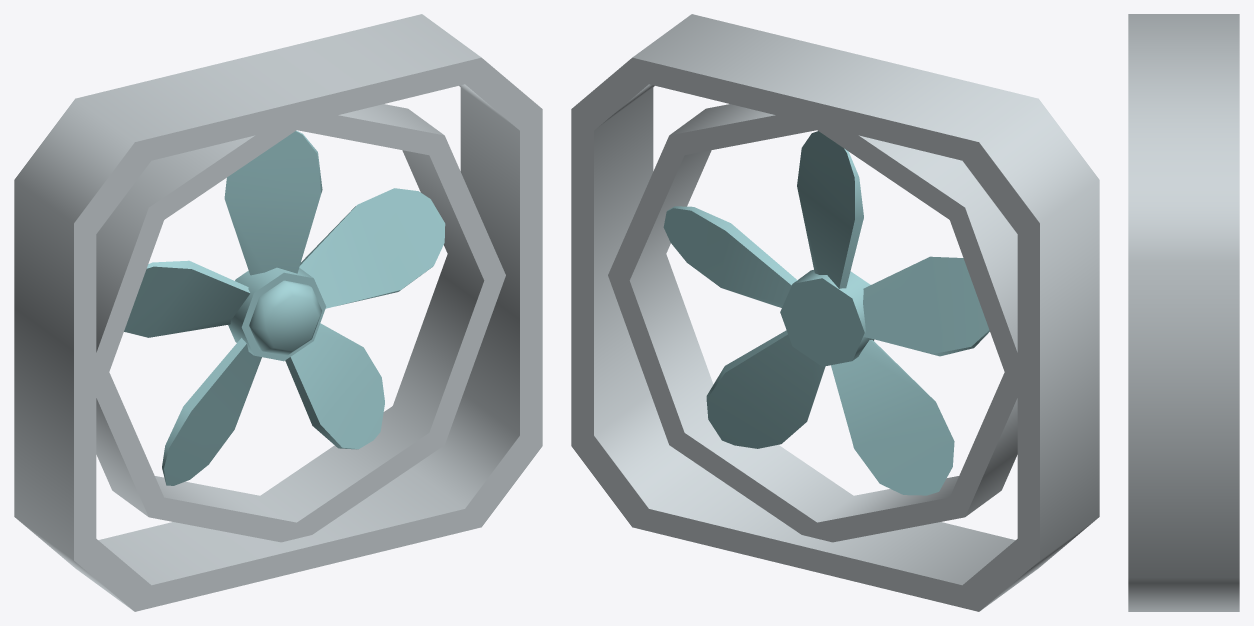
File: 05_prop_fan.FBX
The picture shows the model from 3 angles, left to right: view 1: azimuth 30°, elevation 25°; view 2: azimuth 150°, elevation 25°; view 3: azimuth 270°, elevation 25°; orthographic projection. The views are drawn at different scales.
Parts seen in each view (by area): view 1: prop_fan, prop_Fan blade; view 2: prop_fan, prop_Fan blade; view 3: prop_fan.
Part boxes in pixels (x1=…): prop_fan: x1=14, y1=14, x2=542, y2=611; prop_Fan blade: x1=124, y1=130, x2=445, y2=485; prop_fan: x1=571, y1=14, x2=1099, y2=611; prop_Fan blade: x1=663, y1=131, x2=989, y2=495; prop_fan: x1=1128, y1=14, x2=1239, y2=611.
Bounding box in the file's own units: 28.56 × 27.35 × 6.29.
